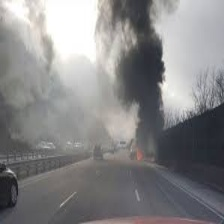smoke: (96, 1, 168, 160)
